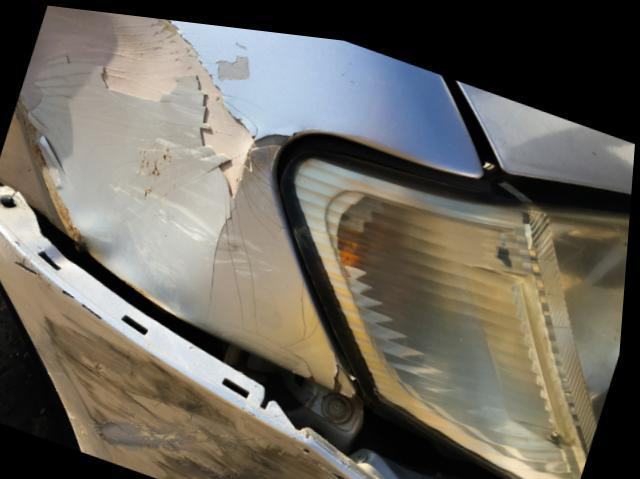dent: (20, 4, 348, 379)
dislocated part: (0, 181, 558, 479)
scratch: (37, 311, 371, 479)
